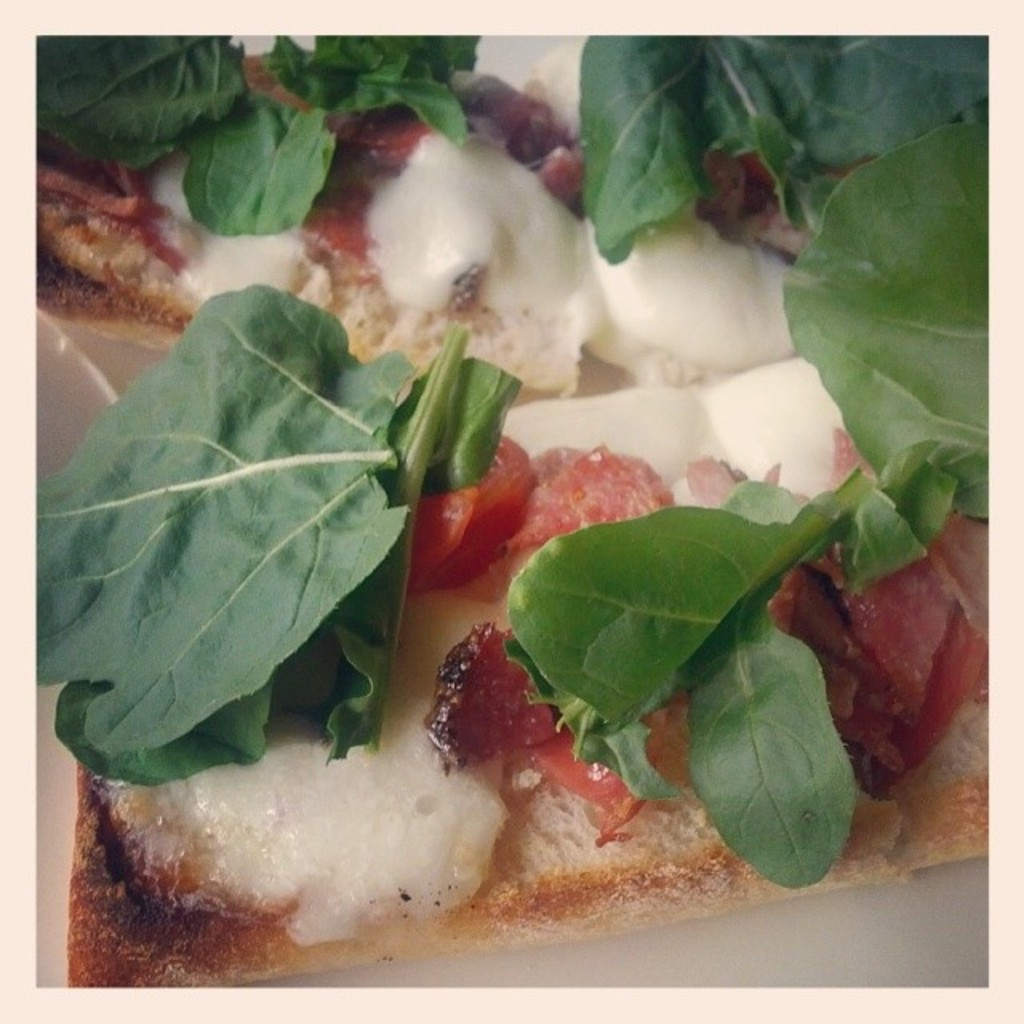Tomato: (406, 434, 993, 838), (239, 50, 772, 263)
